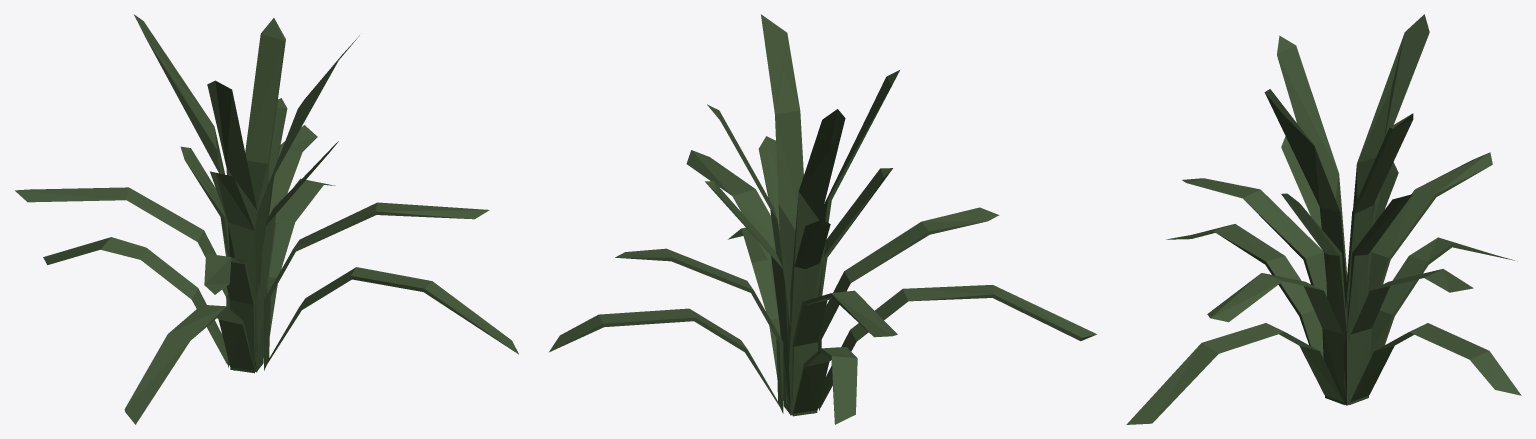
Rendered from Plant_3.lod1.glb.
The picture shows the model from 3 angles, left to right: view 1: azimuth 30°, elevation 25°; view 2: azimuth 150°, elevation 25°; view 3: azimuth 270°, elevation 25°; orthographic projection.
Parts seen in each view (by area): view 1: Plant_3; view 2: Plant_3; view 3: Plant_3.
Boxes of the visible parts, left/top/right/bottom form: Plant_3: left=15, top=14, right=518, bottom=424; Plant_3: left=549, top=14, right=1096, bottom=424; Plant_3: left=1126, top=14, right=1521, bottom=424.
Bounding box in the file's own units: 1.08 × 0.941 × 0.9733.
